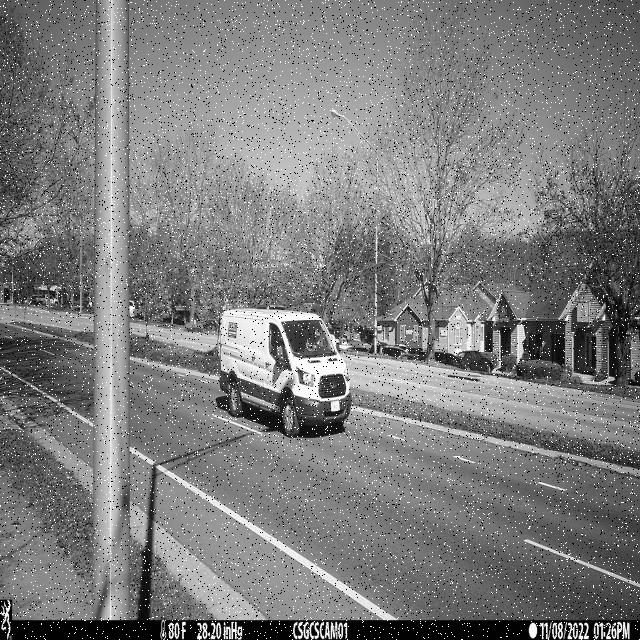Van: (219, 309, 351, 438)
